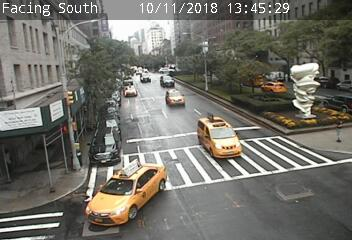car: (85, 163, 167, 226), (199, 116, 241, 159), (89, 127, 120, 164), (323, 95, 352, 112), (262, 81, 287, 95), (166, 89, 185, 107), (242, 75, 264, 87), (123, 85, 137, 98), (161, 75, 175, 87)
